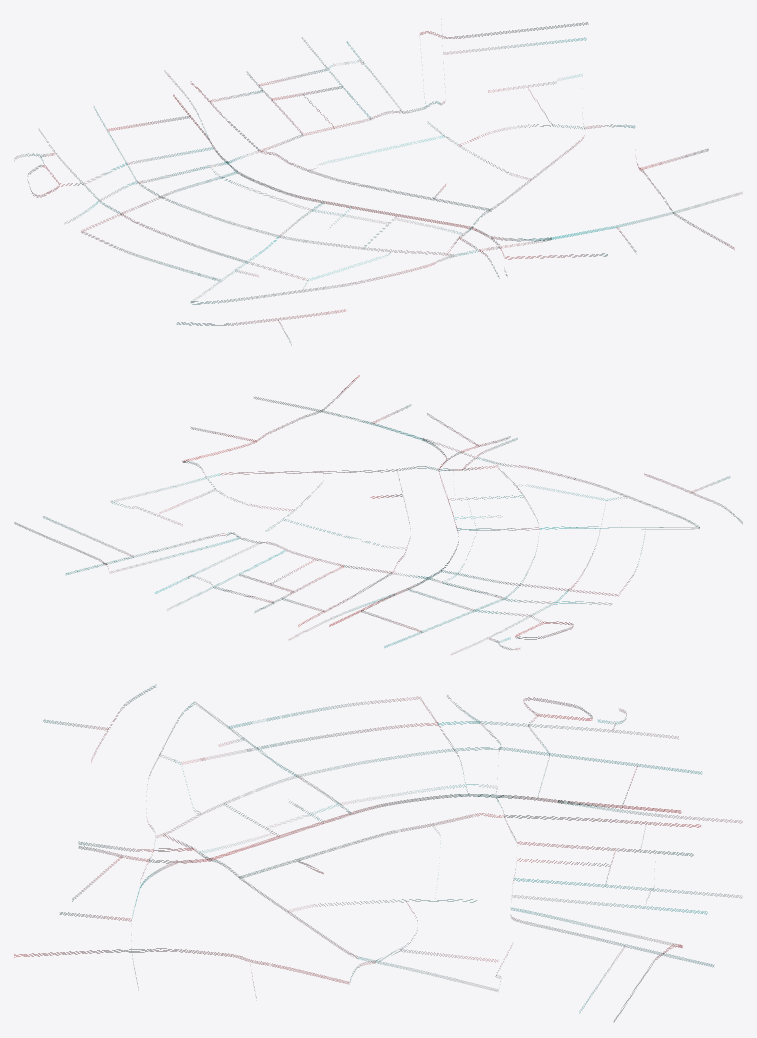
The model's file is trafficLines.fbx.
The picture shows the model from 3 angles, top to bottom: view 1: azimuth 30°, elevation 25°; view 2: azimuth 150°, elevation 25°; view 3: azimuth 270°, elevation 25°; orthographic projection. The views are drawn at different scales.
Visible parts, largest first — view 1: traffic_lights; view 2: traffic_lights; view 3: traffic_lights.
Boxes of the visible parts, x1,y1,x2,y2 form: traffic_lights: (14,22,742,344); traffic_lights: (14,375,742,654); traffic_lights: (14,685,742,1021).
Bounding box in the file's own units: 88.06 × 0.8438 × 80.6.
